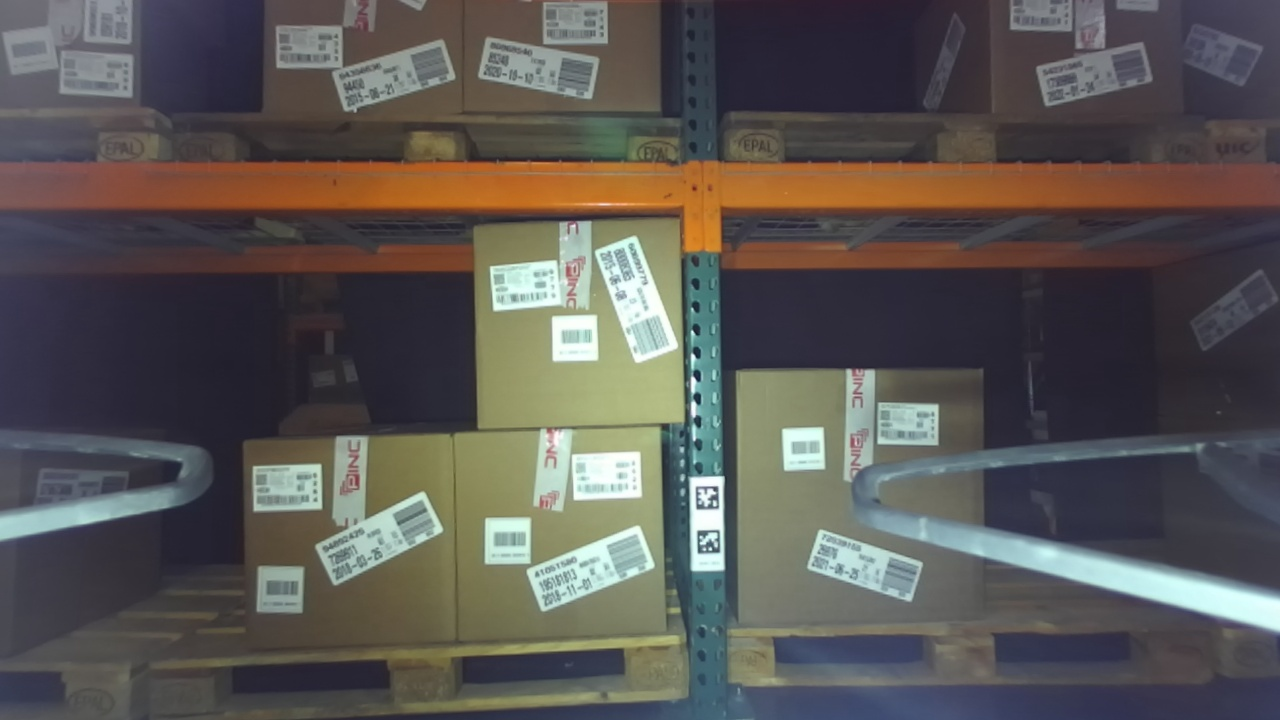box: (717, 352, 1001, 651), (434, 409, 695, 659), (232, 417, 485, 655), (459, 201, 715, 435)
